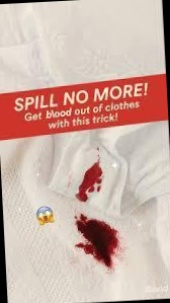blood: (75, 214, 122, 270), (73, 162, 104, 202)
